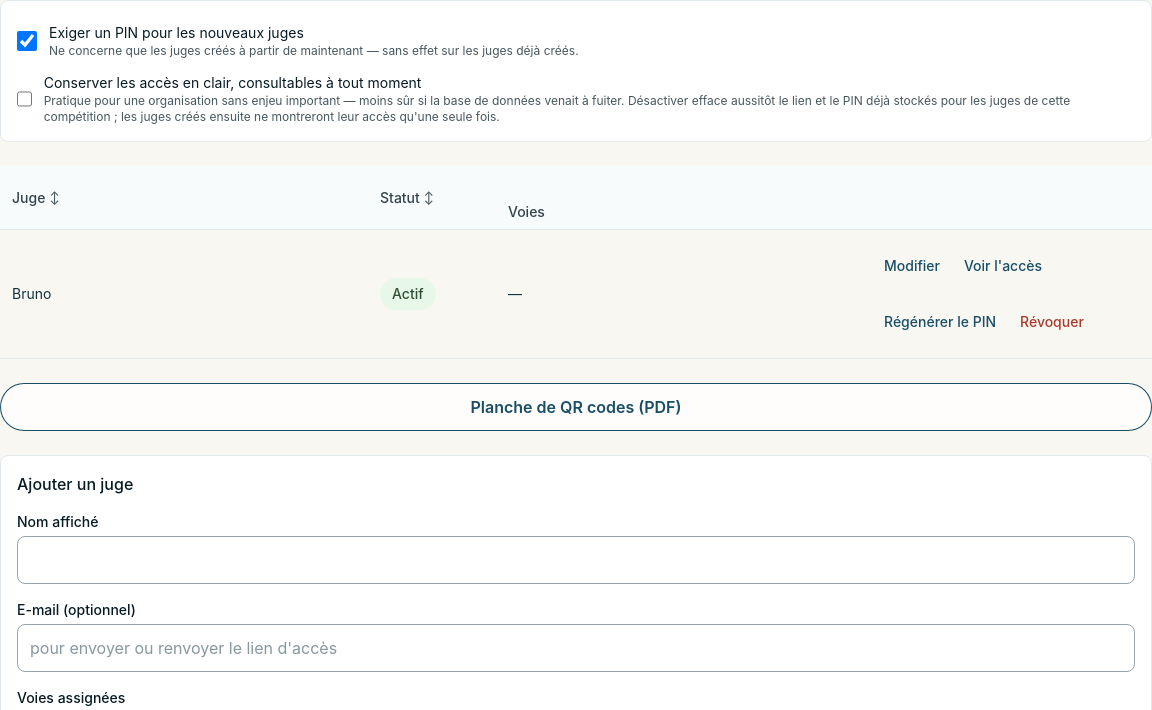
JudgesTab — fiche du juge (Lot 19) › ne rend aucune fiche sur petit écran : la modale reste
Step 1. Click the button "Voir l'accès" → (1003, 266), box [956,242,1050,290]
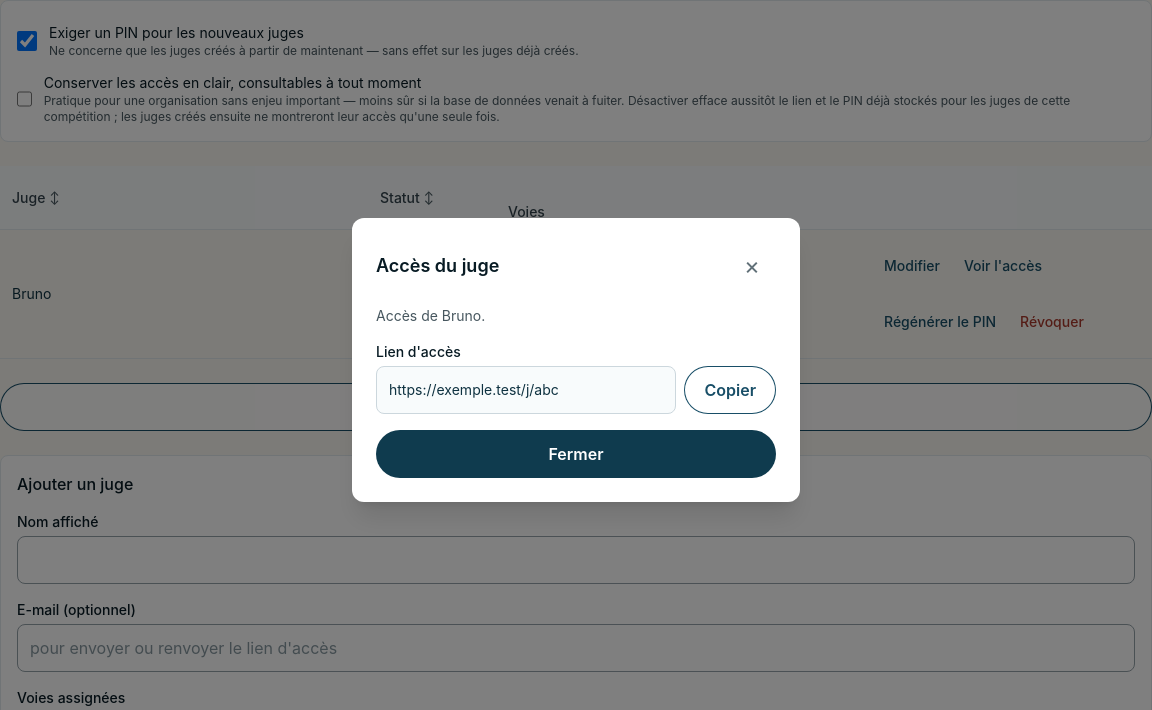
Check: the text "Accès du juge" is shown, box [376,252,499,280]
